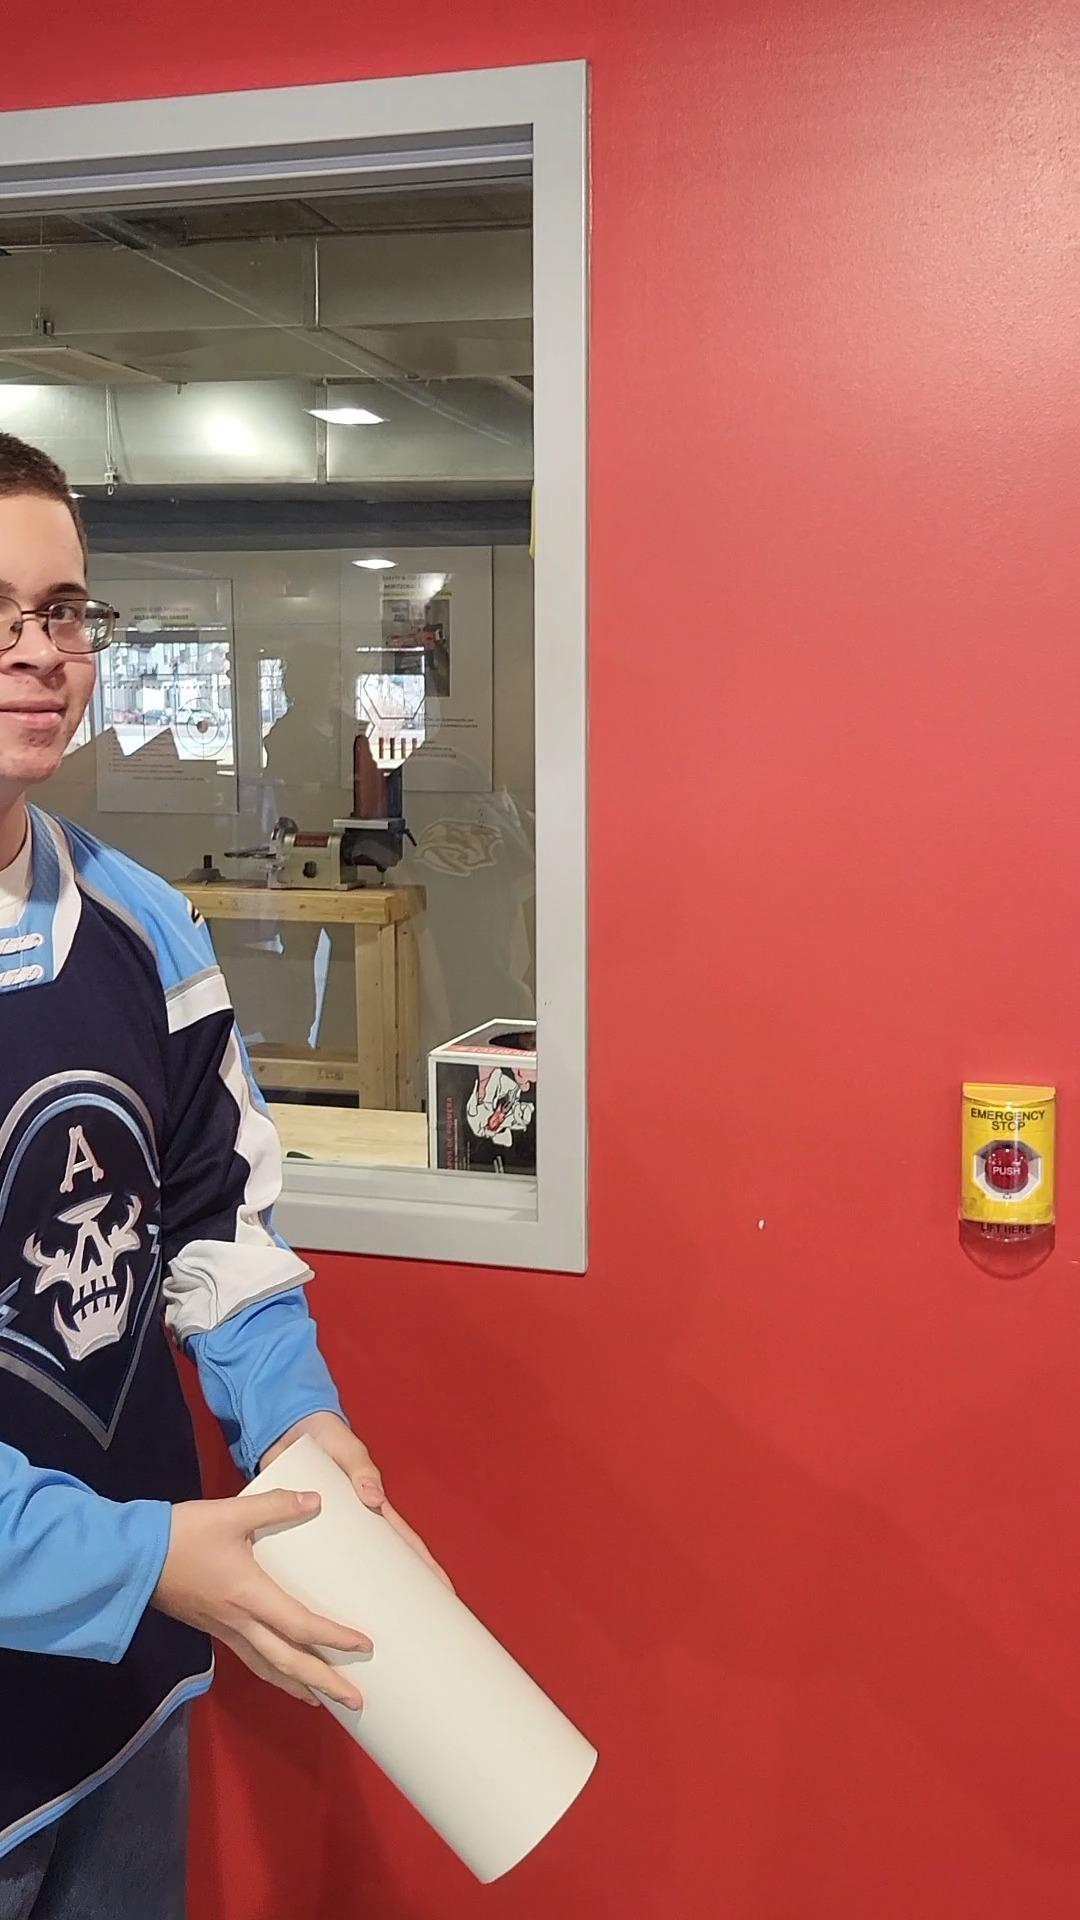coral: (214, 1437, 611, 1894)
